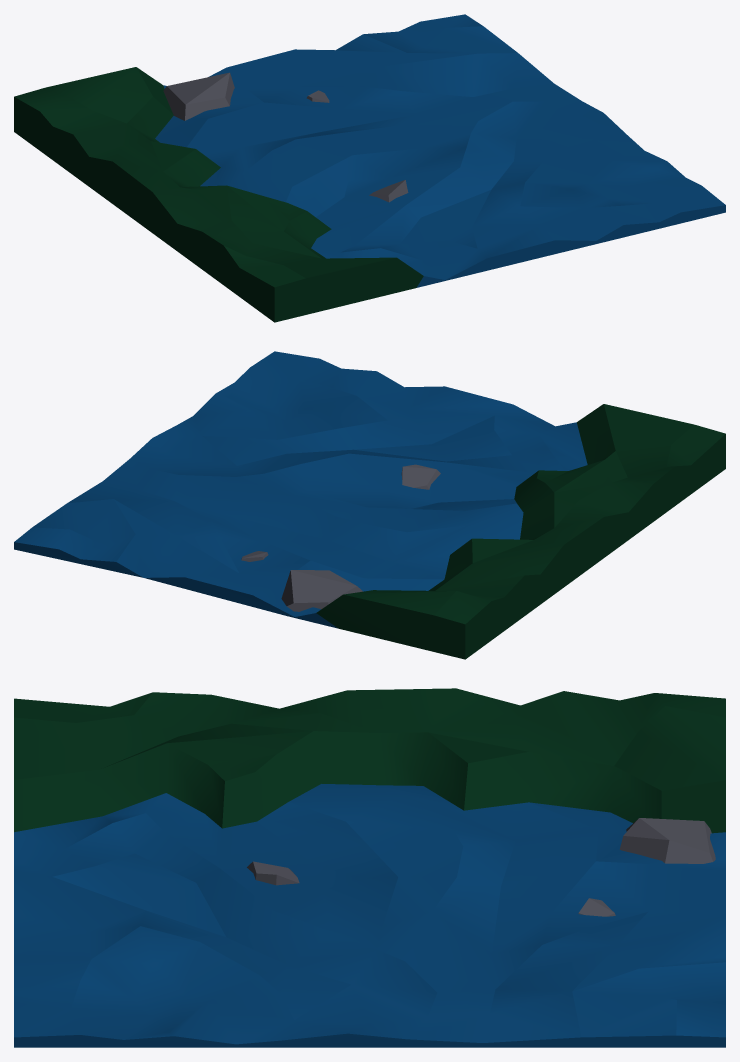
The model's file is Water_Edge_L.fbx.
3 views of the same model, one above another, from view 1: azimuth 30°, elevation 25°; view 2: azimuth 150°, elevation 25°; view 3: azimuth 270°, elevation 25° (orthographic). The views are drawn at different scales.
Parts seen in each view (by area): view 1: Water_Edge_L; view 2: Water_Edge_L; view 3: Water_Edge_L.
Part boxes in pixels (x1,y1,x2,y2): Water_Edge_L: (14,14,725,322); Water_Edge_L: (14,351,725,659); Water_Edge_L: (14,688,725,1047).
Size of the model in its own units: 147 by 13.97 by 147.
